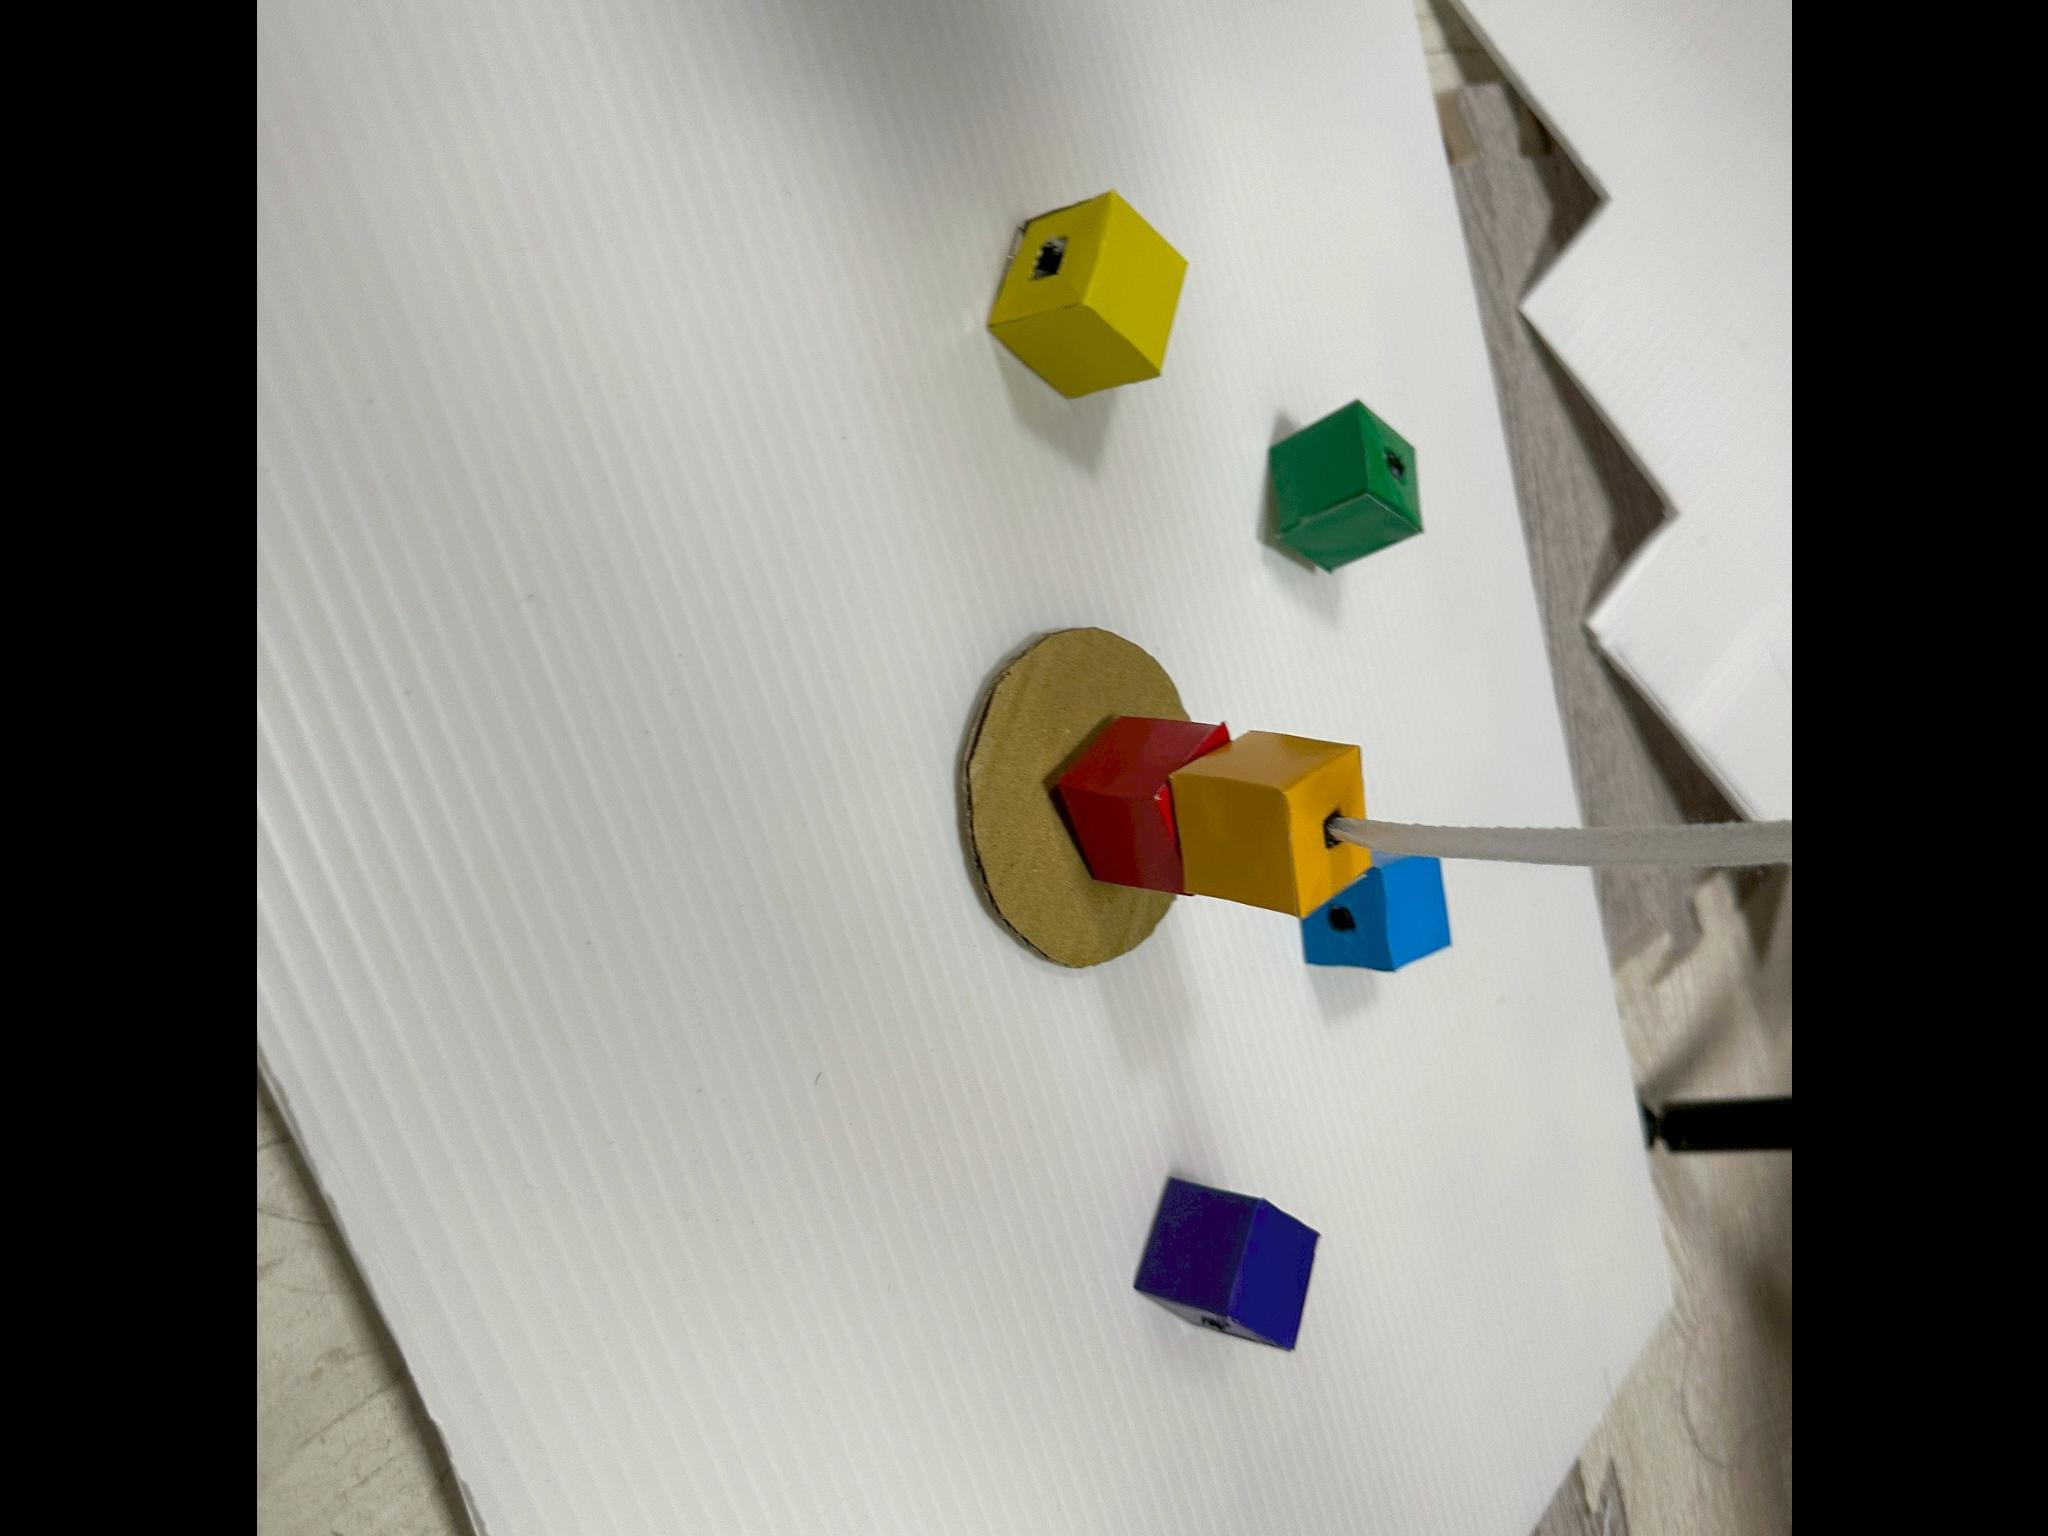base: (966, 628, 1185, 966)
cube: (989, 192, 1185, 397), (1171, 731, 1369, 916), (1134, 1178, 1317, 1350), (1051, 716, 1229, 894), (1269, 402, 1421, 571), (1300, 857, 1451, 971)
